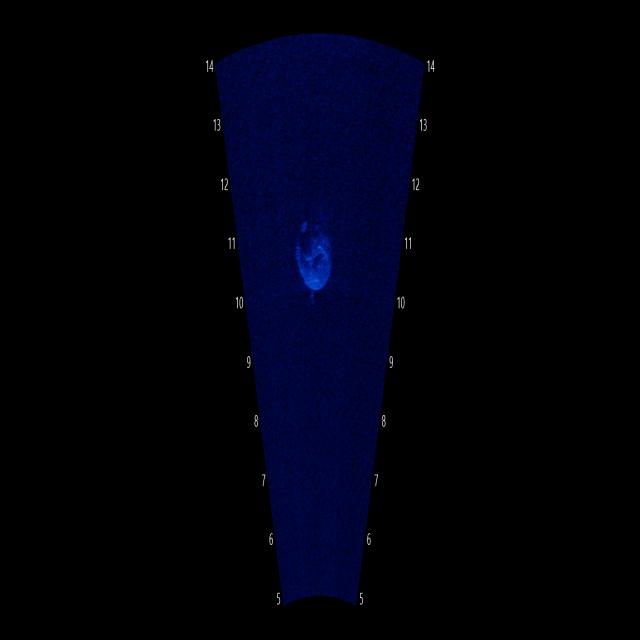circle: (287, 186, 343, 309)
